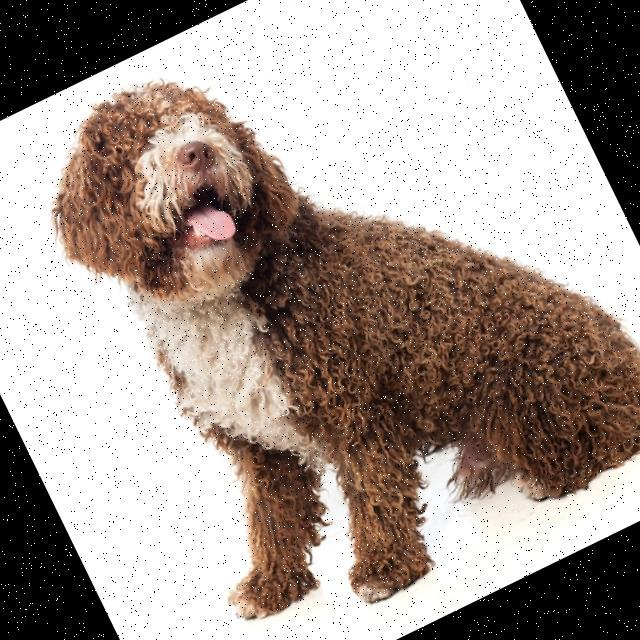Dog: (5, 0, 640, 640)
